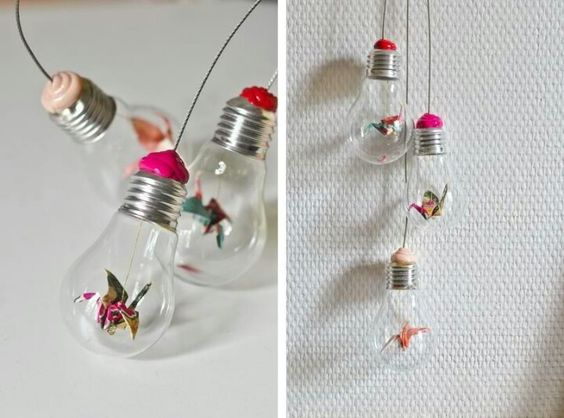Light_bulb: (57, 150, 190, 368), (171, 87, 279, 292), (340, 49, 420, 168), (368, 250, 433, 374), (403, 126, 469, 240)
